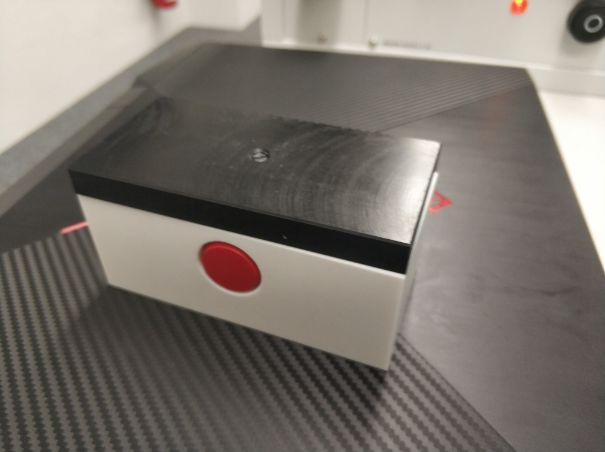black+white+red: (64, 93, 447, 375)
